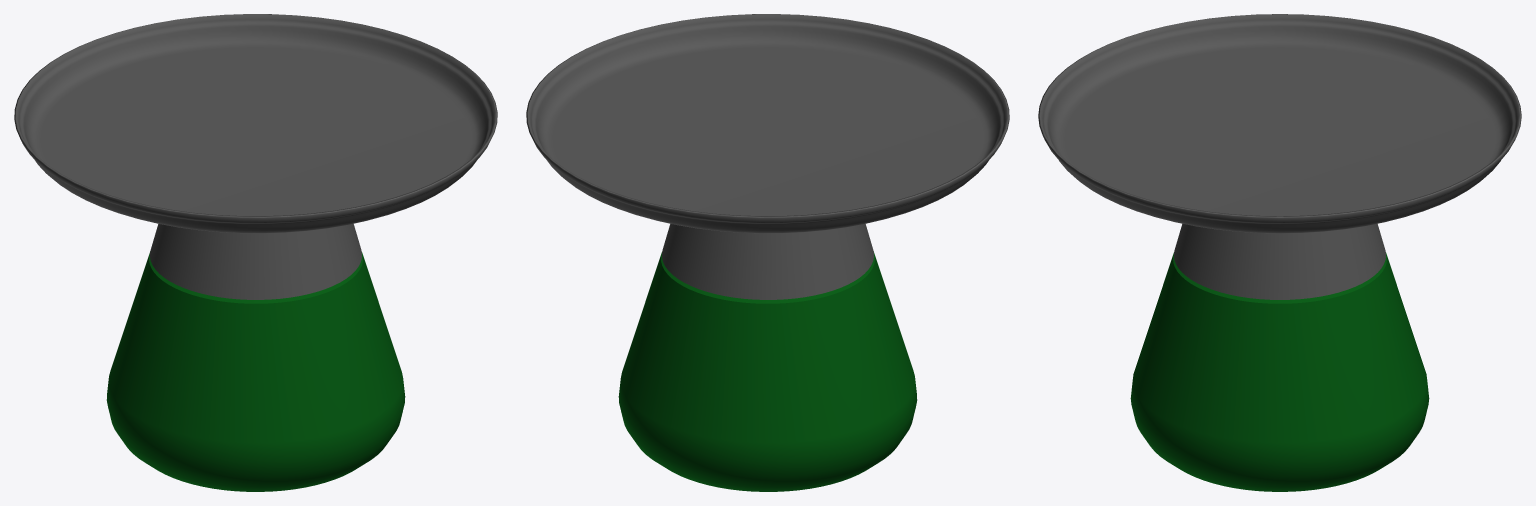
File: Coffee_table_2.fbx
3 renders of one model, left to right at view 1: azimuth 30°, elevation 25°; view 2: azimuth 150°, elevation 25°; view 3: azimuth 270°, elevation 25°, orthographic.
Parts seen in each view (by area): view 1: Coffee_table_2; view 2: Coffee_table_2; view 3: Coffee_table_2.
Part boxes in pixels (box(x1,y1,x2,y2)): Coffee_table_2: box(14, 14, 497, 491); Coffee_table_2: box(526, 14, 1009, 491); Coffee_table_2: box(1038, 14, 1521, 491).
Bounding box in the file's own units: 50.97 × 39 × 50.97.
